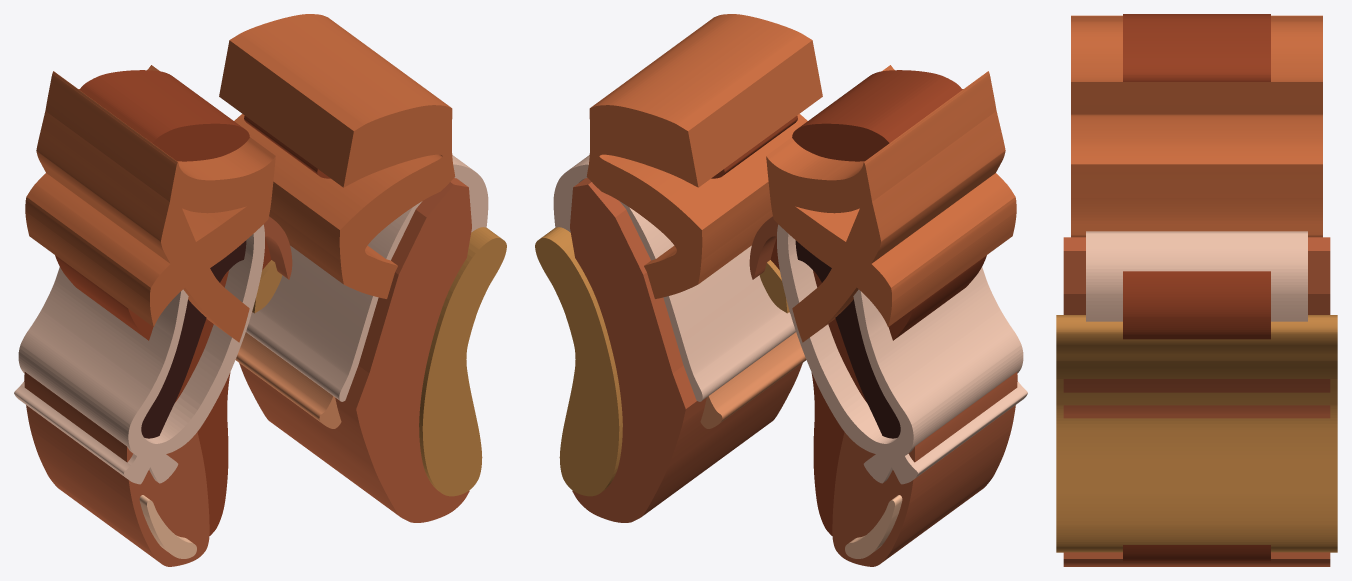
3 renders of one model, left to right at view 1: azimuth 30°, elevation 25°; view 2: azimuth 150°, elevation 25°; view 3: azimuth 270°, elevation 25°, orthographic.
Visible parts, largest first — view 1: U+1FA70_layer07_obj00, U+1FA70_layer07_obj01, U+1FA70_layer08_obj01, U+1FA70_layer05_obj01, U+1FA70_layer04_obj01, U+1FA70_layer05_obj02, U+1FA70_layer09_obj00, U+1FA70_layer00_obj02, U+1FA70_layer00_obj01, U+1FA70_layer02_obj00, U+1FA70_layer03_obj00, U+1FA70_layer00_obj00 (+3 smaller); view 2: U+1FA70_layer07_obj00, U+1FA70_layer07_obj01, U+1FA70_layer08_obj01, U+1FA70_layer05_obj01, U+1FA70_layer04_obj01, U+1FA70_layer05_obj02, U+1FA70_layer09_obj00, U+1FA70_layer00_obj02, U+1FA70_layer00_obj01, U+1FA70_layer02_obj00, U+1FA70_layer03_obj00, U+1FA70_layer00_obj00 (+3 smaller); view 3: U+1FA70_layer09_obj00, U+1FA70_layer07_obj00, U+1FA70_layer07_obj01, U+1FA70_layer05_obj02, U+1FA70_layer00_obj04, U+1FA70_layer00_obj02, U+1FA70_layer08_obj00, U+1FA70_layer08_obj01.
Boxes of the visible parts, bbox=[...] form: U+1FA70_layer07_obj00: bbox=[219, 14, 455, 298]; U+1FA70_layer07_obj01: bbox=[25, 65, 275, 342]; U+1FA70_layer08_obj01: bbox=[239, 178, 471, 522]; U+1FA70_layer05_obj01: bbox=[14, 224, 264, 484]; U+1FA70_layer04_obj01: bbox=[24, 372, 209, 566]; U+1FA70_layer05_obj02: bbox=[246, 155, 488, 401]; U+1FA70_layer09_obj00: bbox=[419, 227, 506, 496]; U+1FA70_layer00_obj02: bbox=[79, 70, 249, 161]; U+1FA70_layer00_obj01: bbox=[175, 238, 271, 535]; U+1FA70_layer02_obj00: bbox=[235, 332, 341, 428]; U+1FA70_layer03_obj00: bbox=[141, 240, 246, 438]; U+1FA70_layer00_obj00: bbox=[55, 255, 153, 340]; U+1FA70_layer07_obj00: bbox=[586, 14, 822, 298]; U+1FA70_layer07_obj01: bbox=[766, 65, 1016, 342]; U+1FA70_layer08_obj01: bbox=[570, 178, 802, 522]; U+1FA70_layer05_obj01: bbox=[777, 224, 1027, 484]; U+1FA70_layer04_obj01: bbox=[832, 372, 1017, 566]; U+1FA70_layer05_obj02: bbox=[553, 155, 795, 401]; U+1FA70_layer09_obj00: bbox=[535, 227, 622, 496]; U+1FA70_layer00_obj02: bbox=[792, 70, 962, 161]; U+1FA70_layer00_obj01: bbox=[770, 238, 866, 535]; U+1FA70_layer02_obj00: bbox=[700, 332, 806, 428]; U+1FA70_layer03_obj00: bbox=[795, 240, 900, 438]; U+1FA70_layer00_obj00: bbox=[888, 255, 986, 340]; U+1FA70_layer09_obj00: bbox=[1056, 315, 1337, 552]; U+1FA70_layer07_obj00: bbox=[1071, 114, 1322, 237]; U+1FA70_layer07_obj01: bbox=[1071, 15, 1322, 114]; U+1FA70_layer05_obj02: bbox=[1086, 231, 1307, 321]; U+1FA70_layer00_obj04: bbox=[1123, 271, 1270, 561]; U+1FA70_layer00_obj02: bbox=[1123, 14, 1270, 81]; U+1FA70_layer08_obj00: bbox=[1063, 379, 1330, 418]; U+1FA70_layer08_obj01: bbox=[1063, 237, 1330, 566].
Bounding box in the file's own units: 0.2941 × 0.3211 × 0.19.
